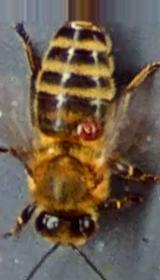varroa_mite: (71, 112, 107, 142)
